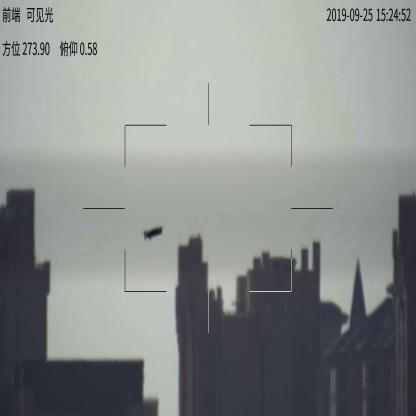uav: (146, 226, 166, 241)
